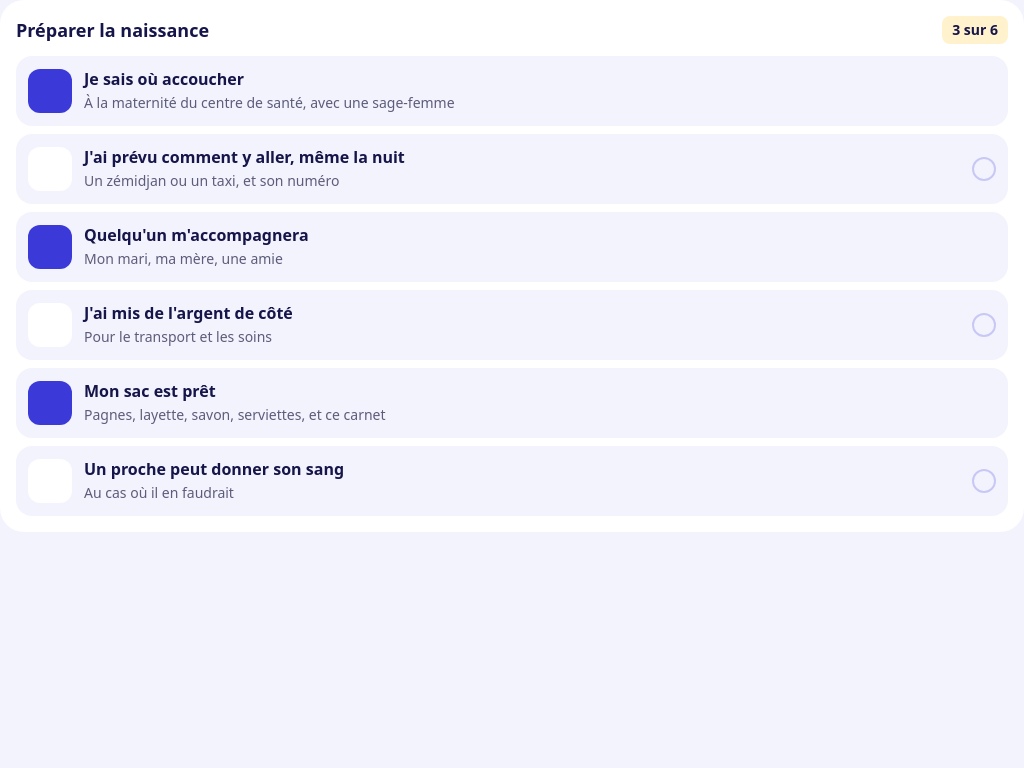
Scenario: PlanNaissance › coche une chose prête, la garde tout de suite et compte ce qui est prêt
Expected: the text "3 sur 6" is shown, [942,16,1008,44]
Click the checkbox labelled "comment y aller" at (50, 169), box [16,134,1008,204]
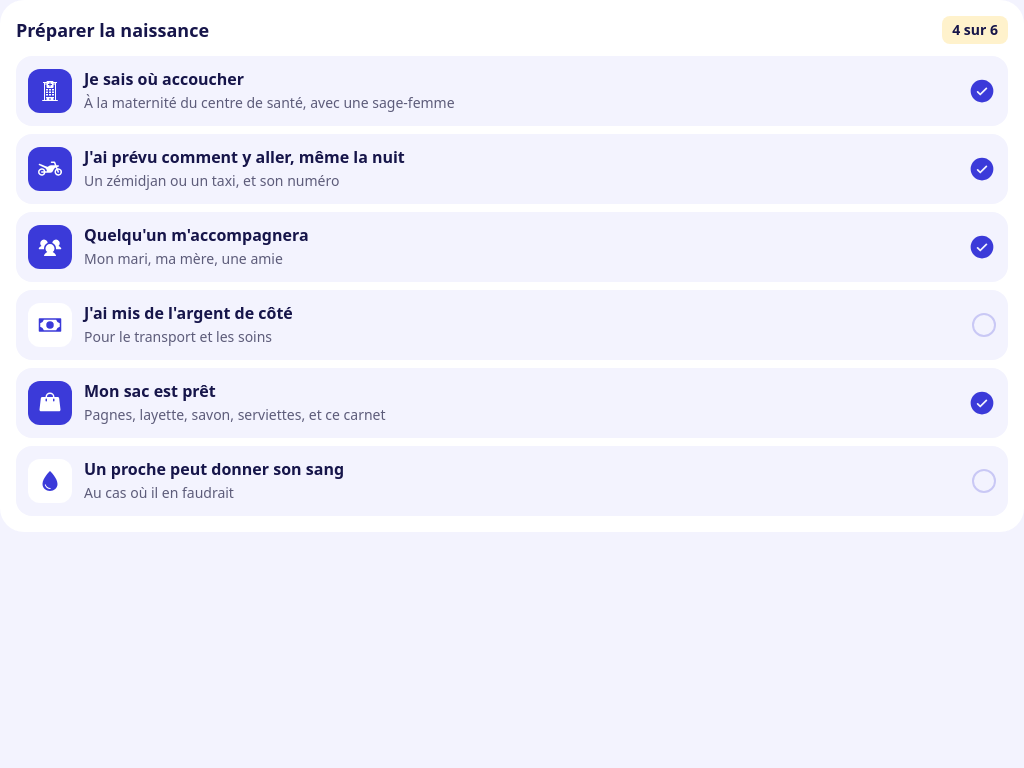
Expected: the text "4 sur 6" is shown, [942,16,1008,44]
